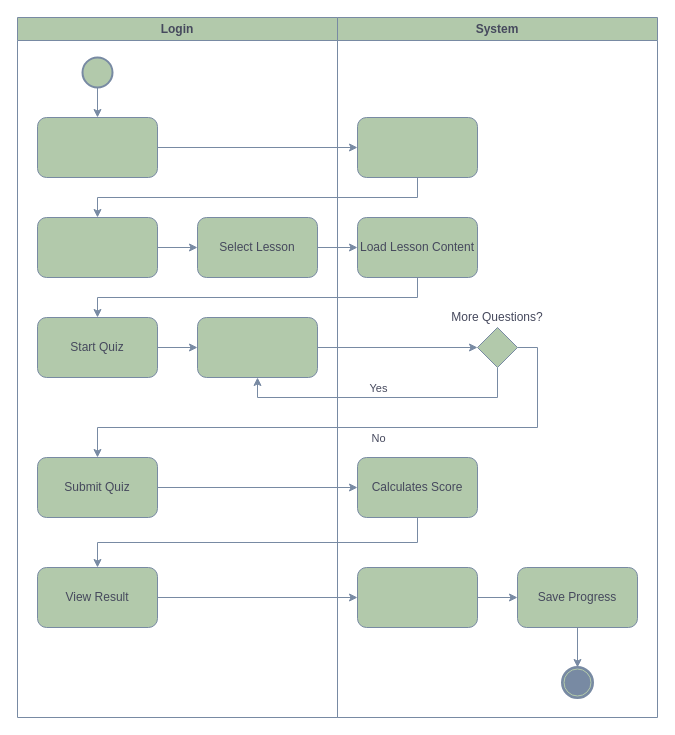
This 675x735 diagram has some shape labels left out. Here are the shapes that lost their labels. From the top down, the centre of each, then its label:
At pixel 97 147: "User Login".
At pixel 417 147: "Validate Login".
At pixel 97 247: "Select Language".
At pixel 257 347: "Answer Questions".
At pixel 417 597: "Display Result".
